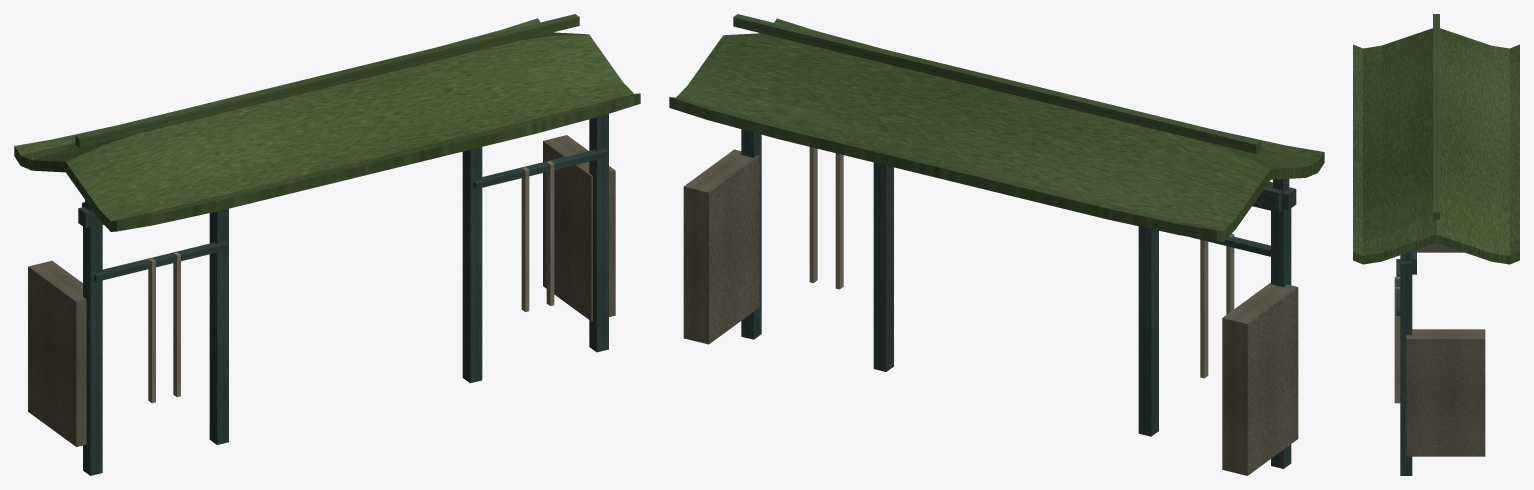
The picture shows the model from 3 angles, left to right: view 1: azimuth 30°, elevation 25°; view 2: azimuth 150°, elevation 25°; view 3: azimuth 270°, elevation 25°; orthographic projection. The views are drawn at different scales.
Visible parts, largest first — view 1: garrison_part_0001, garrison_part_0000, garrison_part_0002; view 2: garrison_part_0001, garrison_part_0000, garrison_part_0002; view 3: garrison_part_0001, garrison_part_0000, garrison_part_0002.
Part boxes in pixels (left/top/right/bottom): garrison_part_0001: left=14, top=18, right=640, bottom=231; garrison_part_0000: left=28, top=114, right=615, bottom=475; garrison_part_0002: left=75, top=14, right=607, bottom=403; garrison_part_0001: left=669, top=18, right=1324, bottom=241; garrison_part_0000: left=683, top=129, right=1298, bottom=475; garrison_part_0002: left=733, top=14, right=1270, bottom=378; garrison_part_0001: left=1353, top=28, right=1519, bottom=275; garrison_part_0000: left=1400, top=243, right=1485, bottom=475; garrison_part_0002: left=1394, top=14, right=1439, bottom=403.
Bounding box in the file's own units: 758 × 430 × 250.
